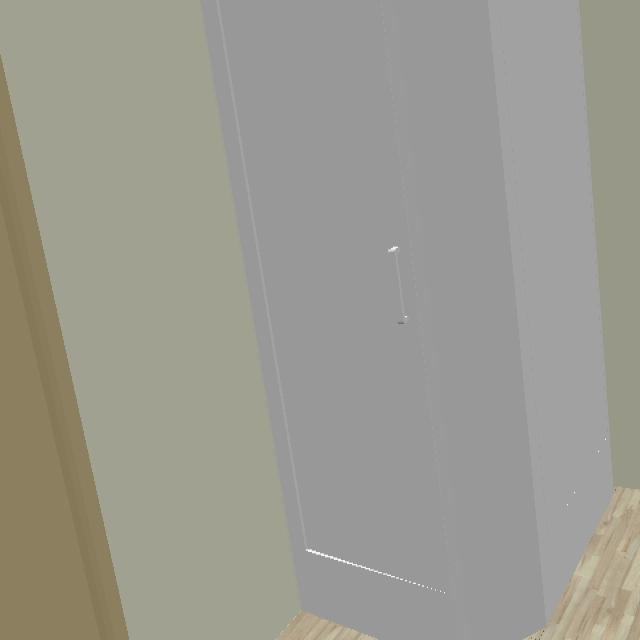shower: (205, 0, 612, 640)
